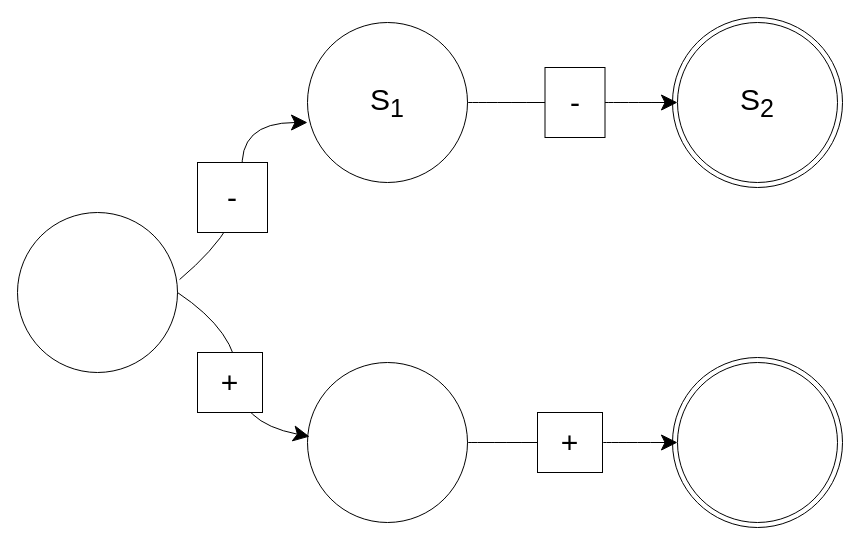
This 860x545 diagram has some shape labels left out. Each missing label, with the box of its shape:
S 0: (16, 212, 178, 372)
S 3: (306, 362, 468, 522)
S 4: (676, 362, 838, 522)
